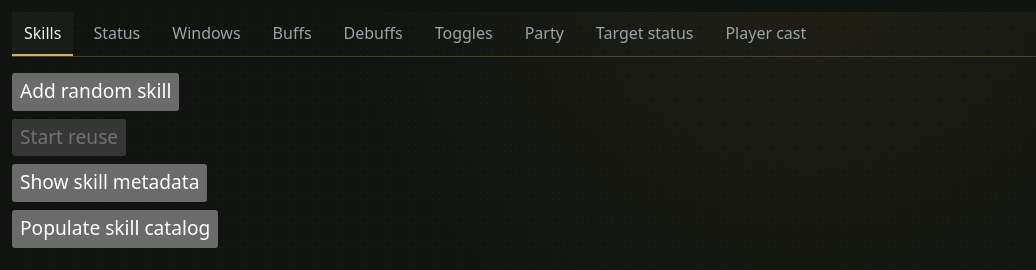
it: DebugWindowContent › provides player cast lifecycle and timing examples
Click the tab "Player cast".
click(766, 34)  # box [713,12,818,56]
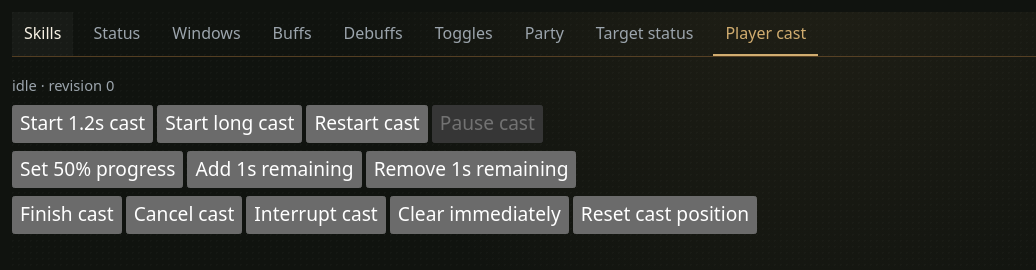
Expected: the button "Start 1.2s cast" is shown, [12,105,153,143]
Expected: the button "Pause cast" is shown, [432,105,543,143]
Expected: the button "Set 50% progress" is shown, [12,151,183,188]
